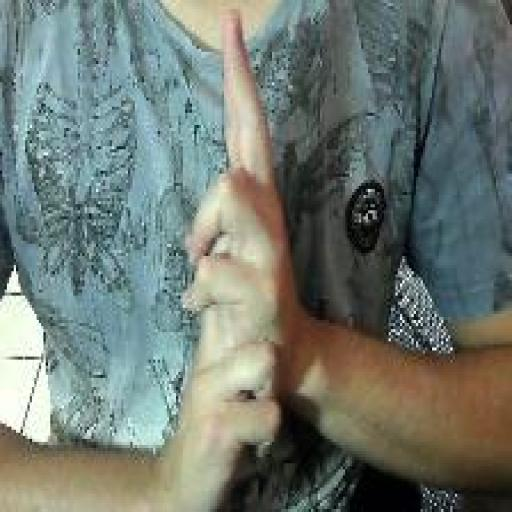Hitsuji -ram-: (175, 8, 296, 508)
